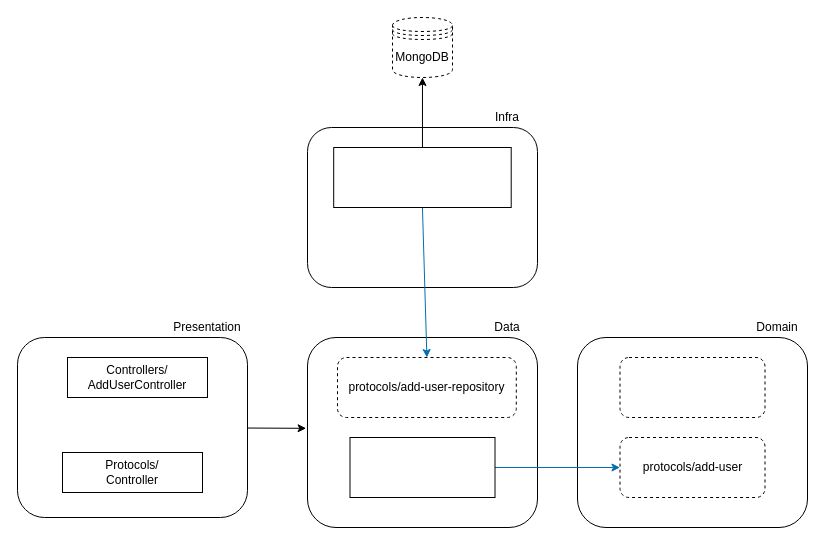
The diagram is 825 pixels wide and 545 high, and some of its shapes have lost their labels. The shapes that lost their labels are listed below. From the top down, each one's centre as x and y in pixels, then its label:
At point (422, 177): "mongodb/user-reposiory".
At point (692, 387): "models/user".
At point (422, 467): "usecases/db-add-user".
